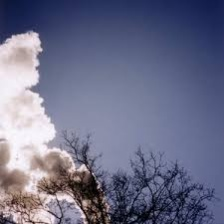smoke: (1, 30, 58, 202)
